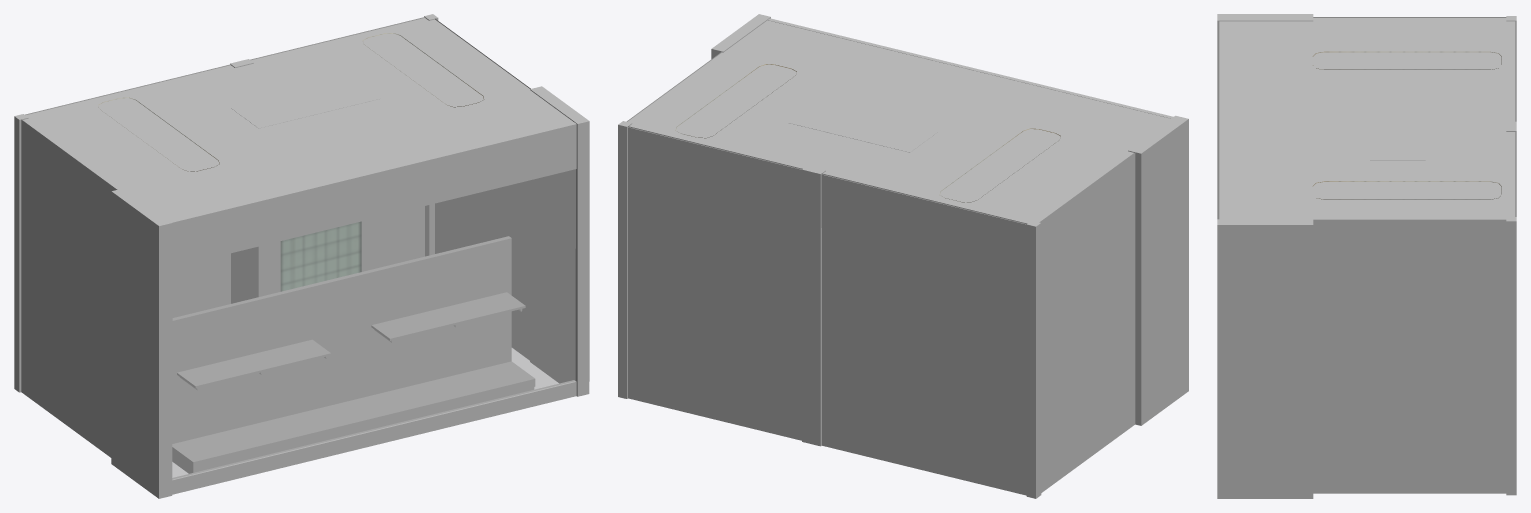
File: shop_21c.fbx
The picture shows the model from 3 angles, left to right: view 1: azimuth 30°, elevation 25°; view 2: azimuth 150°, elevation 25°; view 3: azimuth 270°, elevation 25°; orthographic projection.
Parts seen in each view (by area): view 1: shop_21c; view 2: shop_21c; view 3: shop_21c.
Boxes of the visible parts, bbox=[...] form: shop_21c: bbox=[14, 14, 589, 498]; shop_21c: bbox=[618, 14, 1188, 498]; shop_21c: bbox=[1217, 14, 1516, 498].
Bounding box in the file's own units: 5.29 × 3.2 × 3.17.
